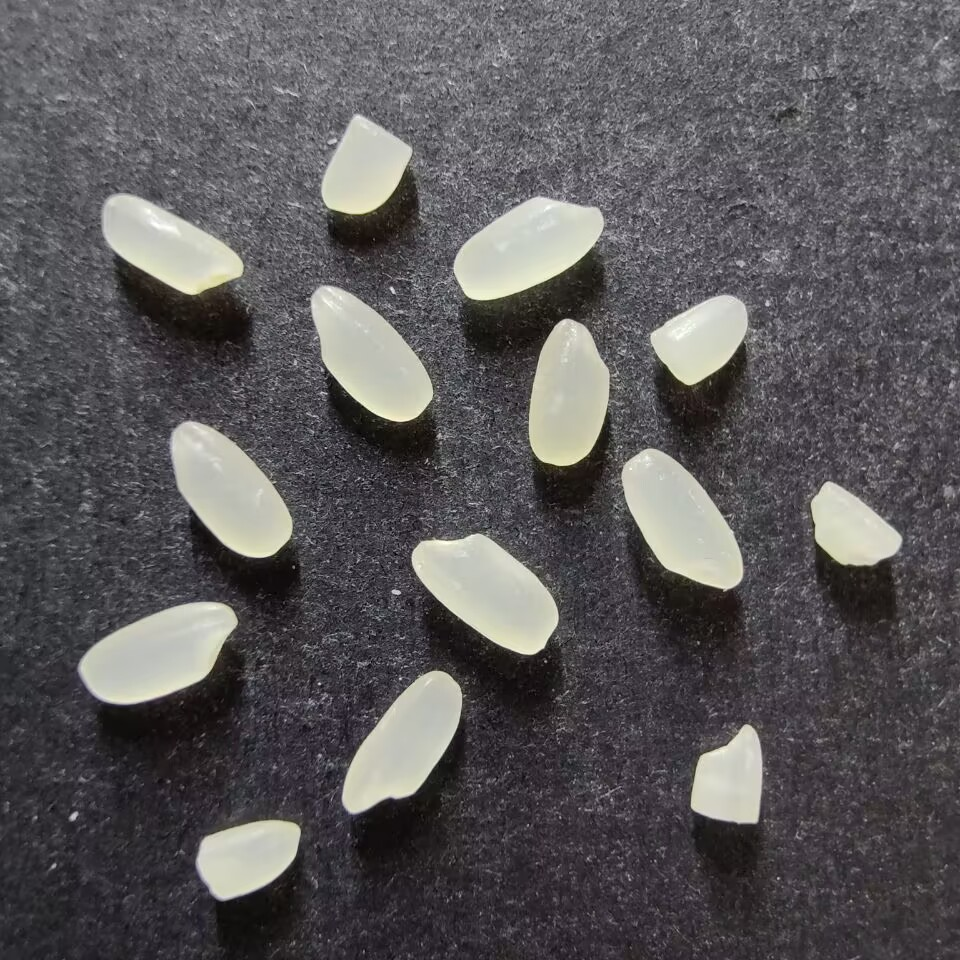broken: (320, 113, 412, 214), (649, 294, 748, 386), (195, 819, 300, 901), (809, 480, 902, 567), (689, 722, 762, 825)
rice: (409, 533, 559, 656), (341, 669, 464, 815), (620, 448, 744, 590), (169, 419, 293, 558), (309, 284, 432, 423), (78, 601, 239, 704), (453, 195, 603, 300), (100, 193, 243, 296), (527, 317, 609, 466)
